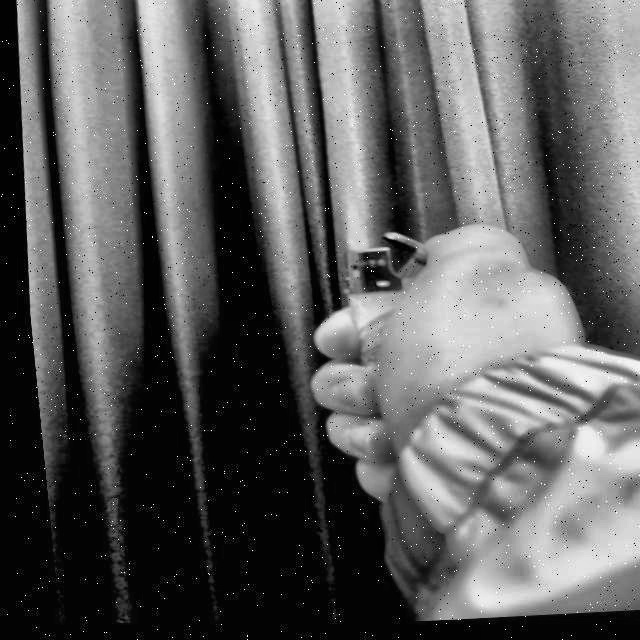Fire: (333, 188, 370, 256)
